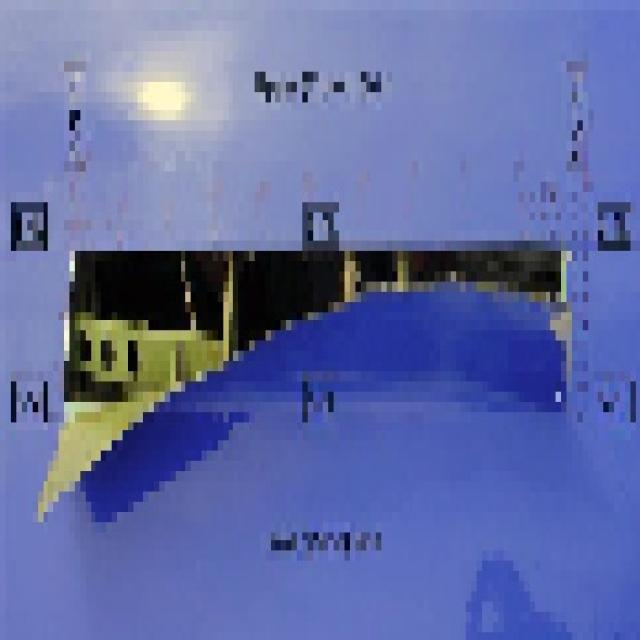crack: (31, 236, 573, 526)
